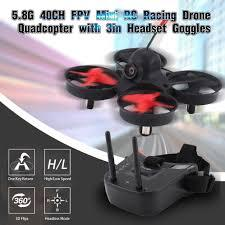drone: (62, 46, 225, 135)
